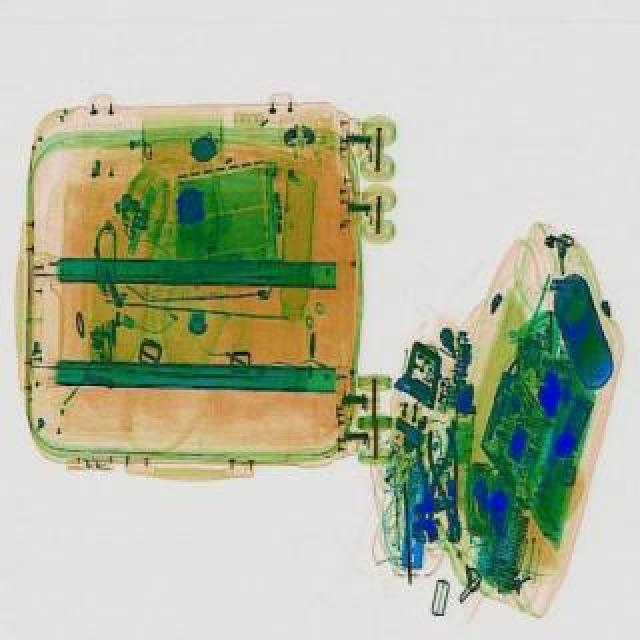wrench: (420, 422, 476, 542), (404, 414, 456, 516)
